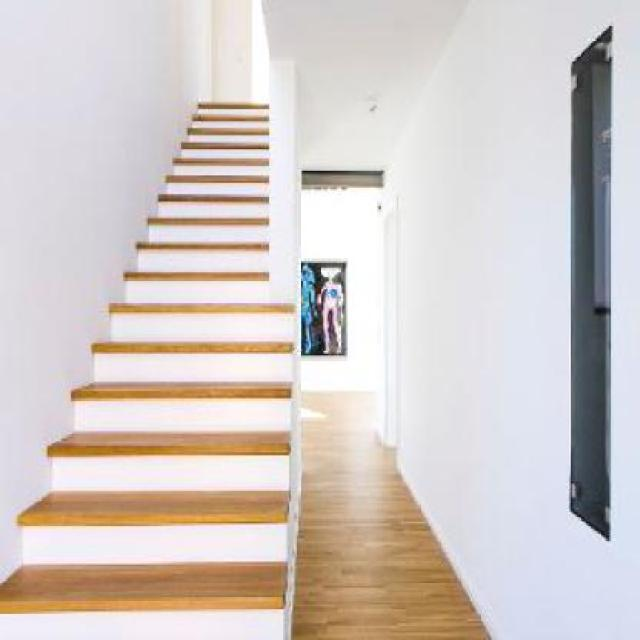stair: (7, 4, 302, 633)
